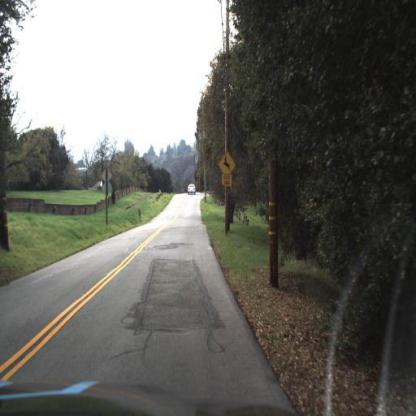car: (184, 181, 198, 199)
